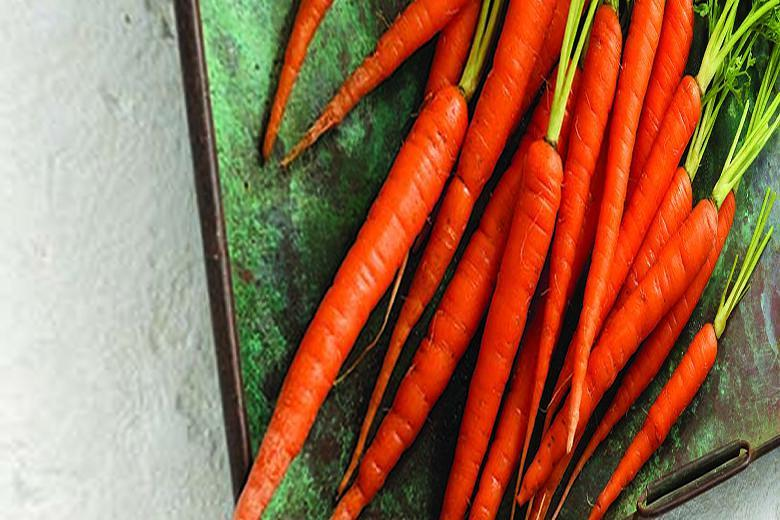carrot: (272, 0, 721, 520)
